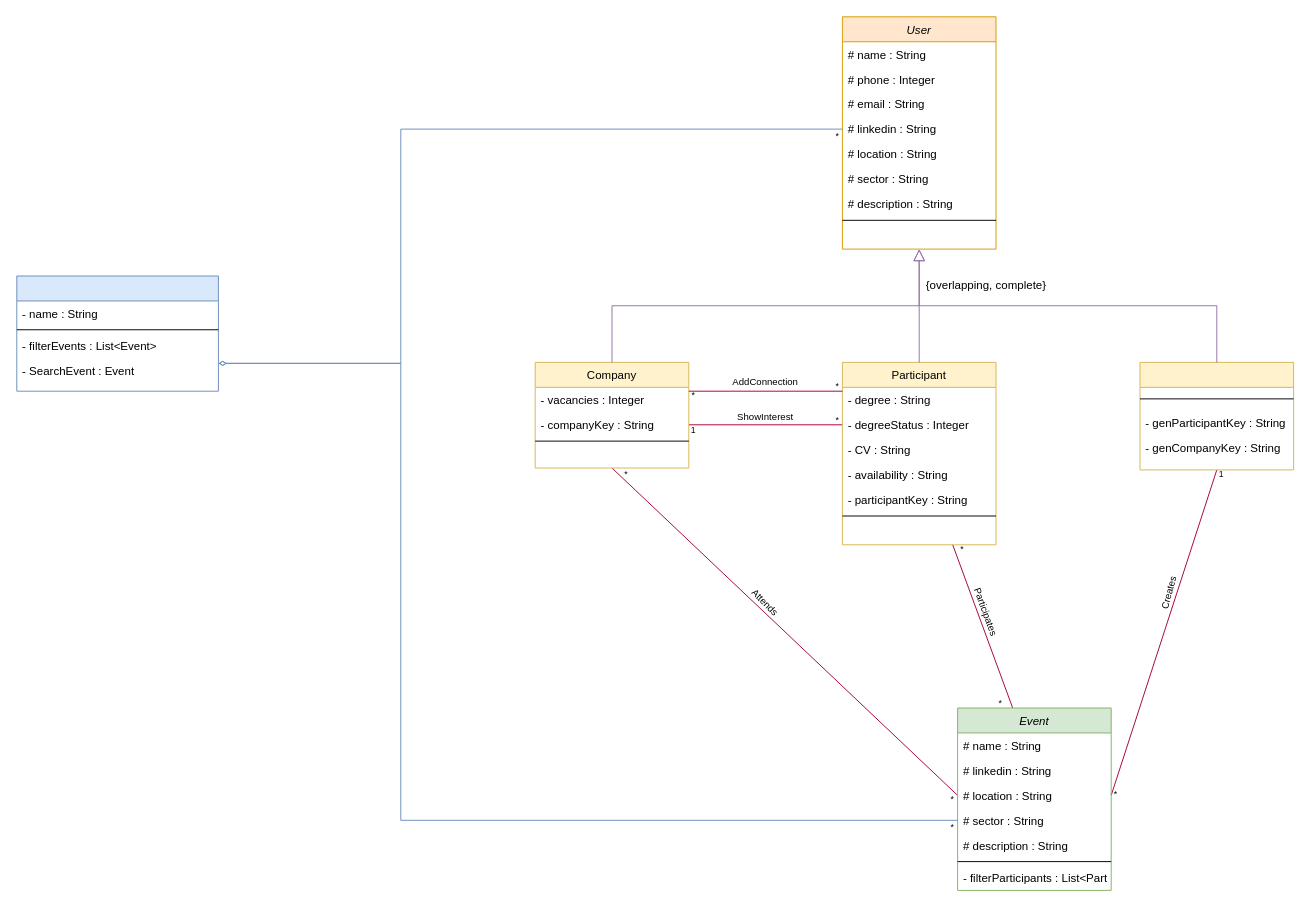
The diagram is 1310 pixels wide and 910 high, and some of its shapes have lost their labels. Each missing label, with the box of its shape:
App: (16, 275, 218, 391)
Organizer: (1139, 361, 1294, 470)
